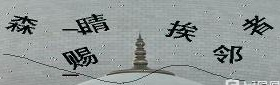chinese: (6, 8, 38, 37), (62, 46, 95, 73), (166, 17, 199, 43), (77, 14, 112, 37), (247, 12, 277, 37), (212, 42, 242, 64)
